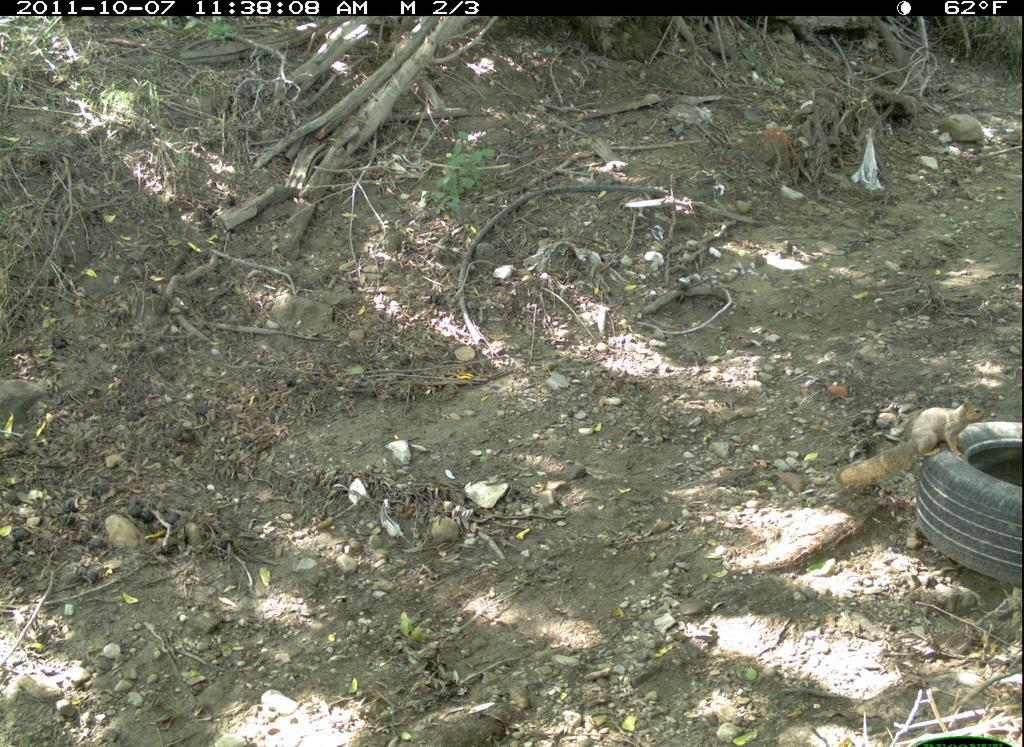squirrel: (824, 387, 998, 509)
